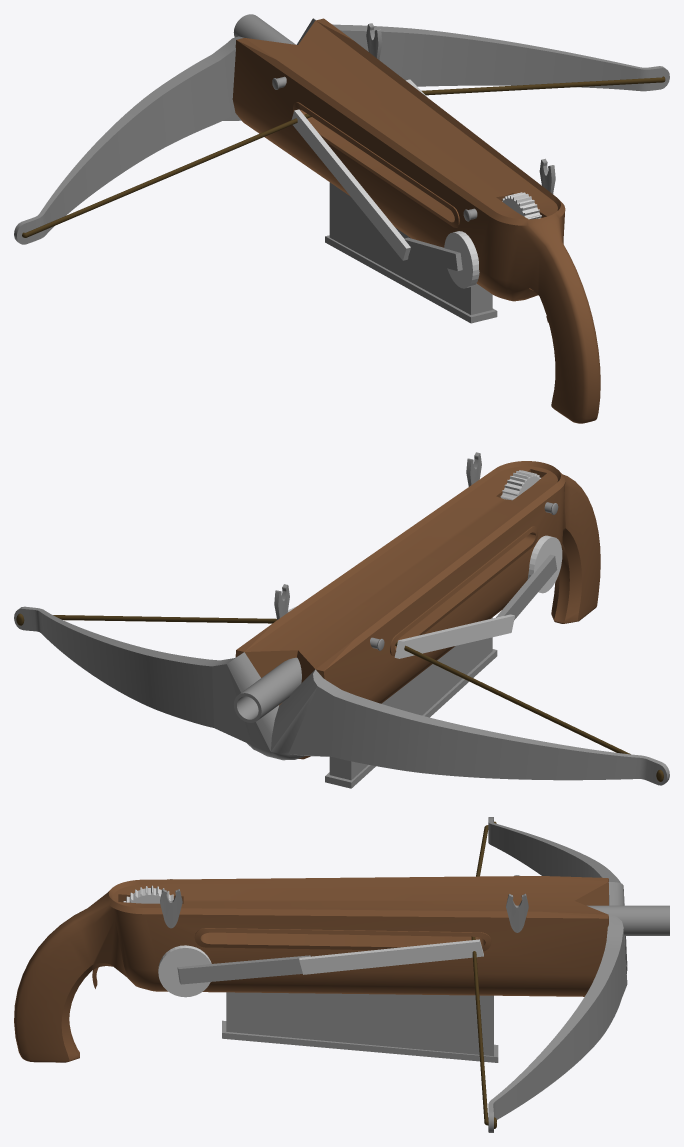
Rendered from crossbow12.glb.
3 renders of one model, top to bottom at view 1: azimuth 30°, elevation 25°; view 2: azimuth 150°, elevation 25°; view 3: azimuth 270°, elevation 25°, orthographic. The views are drawn at different scales.
Parts seen in each view (by area): view 1: Stock, Bow, Magazine, String, Cube.003, Cylinder.001, Cube.002, Barrel, Gear; view 2: Stock, Bow, Magazine, String, Barrel, Cube.003, Cube.002, Cylinder.001, Gear; view 3: Stock, Magazine, Bow, Cube.001, Cube, Barrel, Cylinder, String, Lock clip front, Lock clip rear, Gear.
Boxes of the visible parts, box(x1,y1,x2,y2) form: Stock: box(232, 18, 600, 423); Bow: box(14, 18, 669, 244); Magazine: box(325, 182, 497, 323); String: box(22, 76, 665, 237); Cube.003: box(291, 109, 410, 260); Cylinder.001: box(444, 231, 479, 288); Cube.002: box(404, 237, 462, 271); Barrel: box(233, 14, 295, 44); Gear: box(502, 192, 541, 219); Stock: box(235, 461, 600, 759); Bow: box(14, 606, 669, 785); Magazine: box(325, 617, 497, 788); String: box(16, 613, 663, 781); Barrel: box(233, 657, 301, 722); Cube.003: box(394, 614, 514, 658); Cube.002: box(496, 554, 557, 619); Cylinder.001: box(527, 535, 562, 593); Gear: box(500, 470, 540, 500); Stock: box(14, 876, 608, 1062); Magazine: box(222, 992, 498, 1062); Bow: box(488, 817, 627, 1132); Cube.001: box(299, 939, 483, 974); Cube: box(177, 955, 310, 984); Barrel: box(587, 905, 669, 935); Cylinder: box(158, 945, 211, 997); String: box(471, 821, 496, 1128); Lock clip front: box(506, 893, 528, 932); Lock clip rear: box(160, 889, 182, 928); Gear: box(123, 885, 173, 903).
Bounding box in the file's own units: 1.96 × 0.5592 × 1.8.
